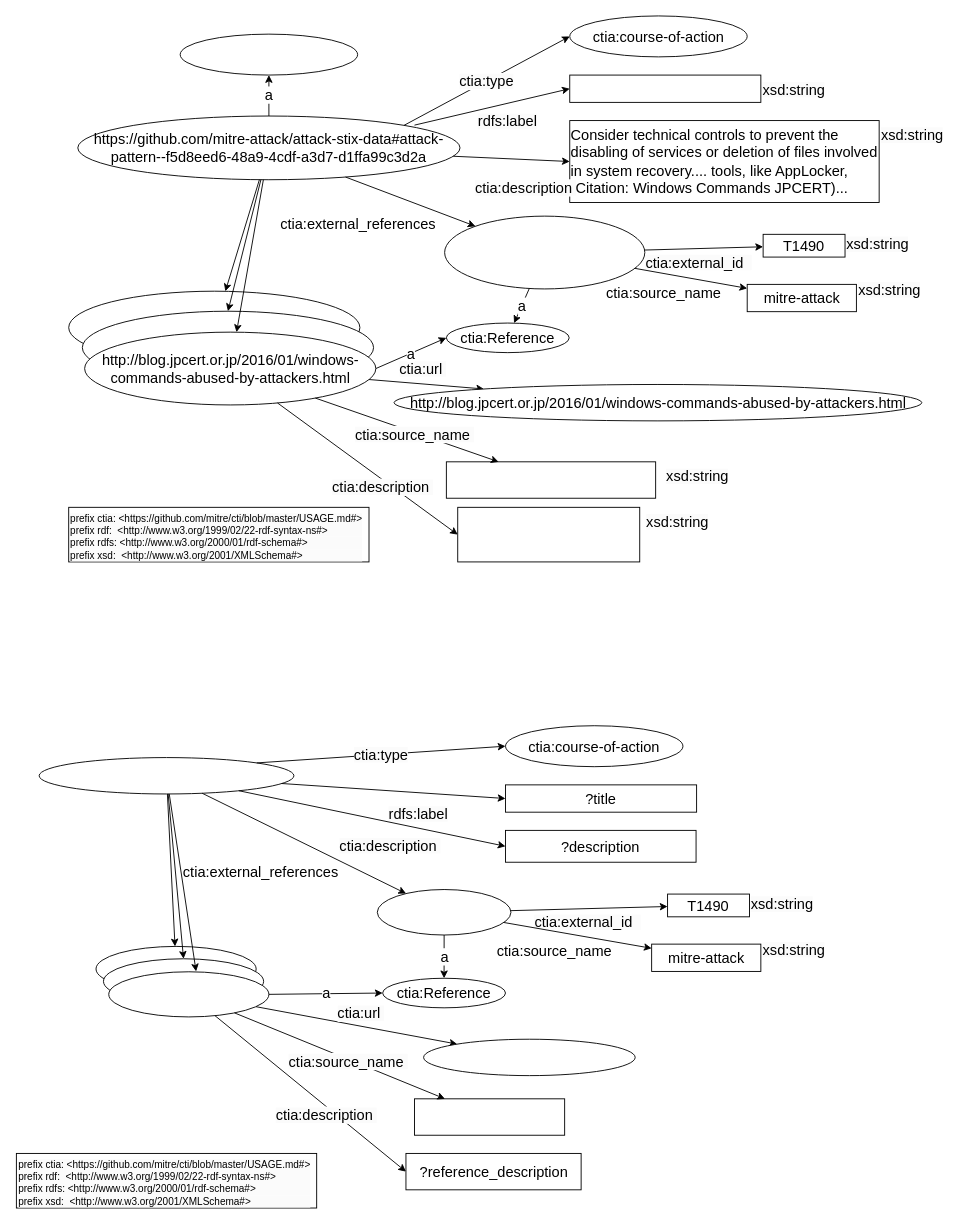
Some shapes in this 967 by 1224 pixel diagram are drawn without their labels. The centre of each missing label's shape, as x and y in pixels:
?mitre_url: (x=443, y=912)
?reference_label: (x=489, y=1116)
?reference_url: (x=529, y=1057)
ctia:Object: (x=268, y=54)
https://attack.mitre.org/ techniques/T1490: (x=544, y=252)
Inhibit System Recovery: (x=665, y=88)
Tomonaga, S. (2016, January 26). Windows Commands Abused ...: (x=548, y=534)
Windows Commands JPCERT: (x=550, y=479)
